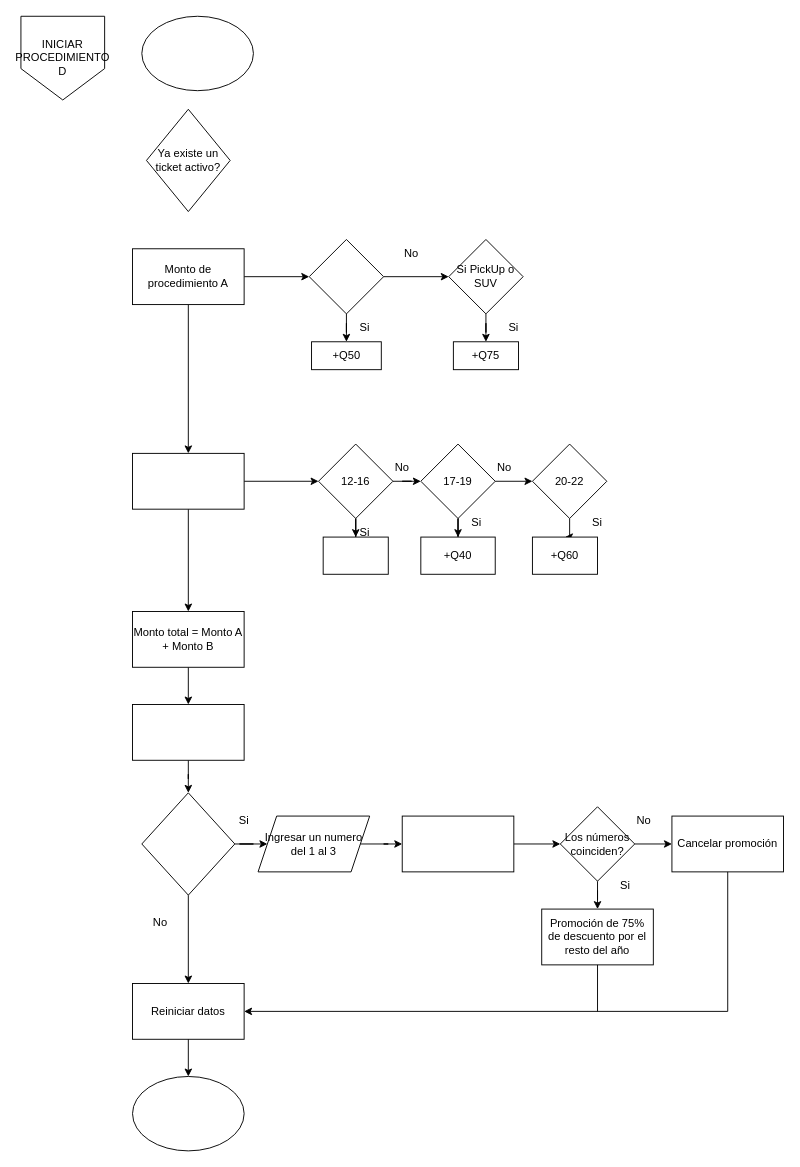
Some shapes in this 800 by 1167 pixel diagram are drawn without their labels. Each missing label, with the box of its shape:
+Q30: (322, 536, 388, 574)
Fin: (132, 1076, 244, 1151)
Generar un numero aleatorio del 1 al 3: (401, 815, 514, 872)
INICIO: (141, 15, 253, 91)
Monto de procedimiento B: (132, 452, 244, 509)
Mostrar monto total: (132, 704, 244, 760)
Participar en la promoción: (141, 792, 235, 895)
Si Sedan: (308, 239, 384, 314)
